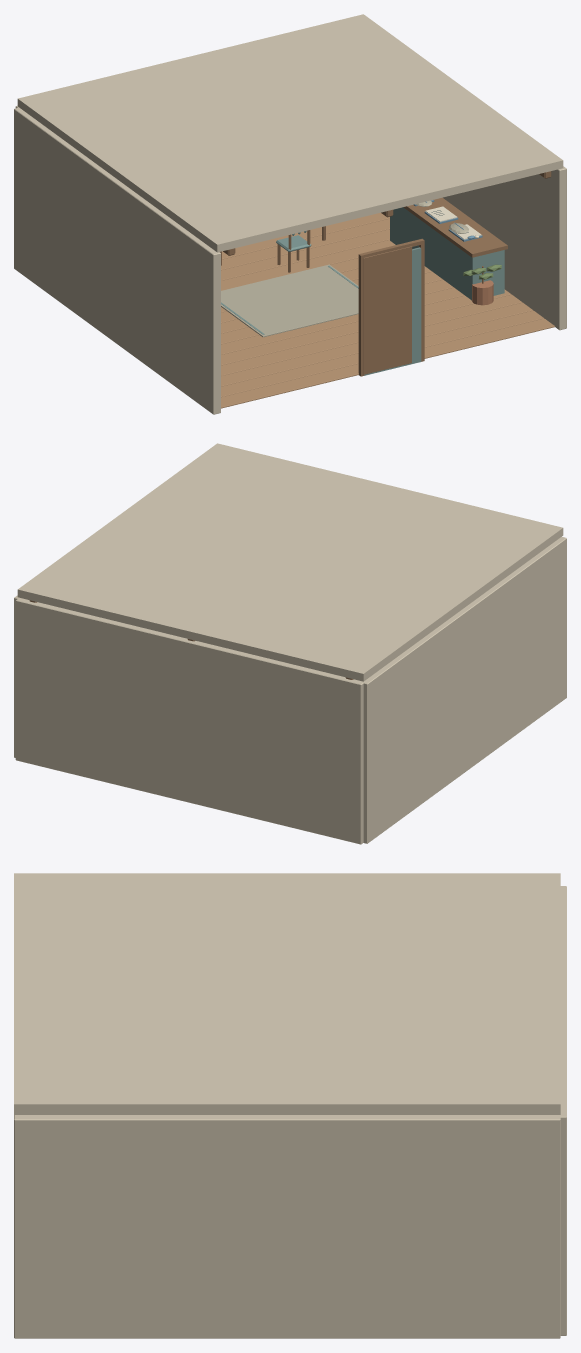
The picture shows the model from 3 angles, top to bottom: view 1: azimuth 30°, elevation 25°; view 2: azimuth 150°, elevation 25°; view 3: azimuth 270°, elevation 25°; orthographic projection. The views are drawn at different scales.
Visible parts, largest first — view 1: Ceiling.001, Left_wall, Right_wall, Rug, Door_frame, V2_sideboard_A1, Floorboard.017, Floorboard.016, Floorboard.015, Floorboard.014, Floorboard.013, V2_counter_A1 (+8 smaller); view 2: Ceiling.001, Back_wall, Left_wall; view 3: Ceiling.001, Right_wall, Back_wall.
Boxes of the visible parts, x1=… form: Ceiling.001: x1=17, y1=14, x2=563, y2=252; Left_wall: x1=14, y1=107, x2=220, y2=414; Right_wall: x1=443, y1=166, x2=566, y2=330; Rug: x1=221, y1=264, x2=358, y2=337; Door_frame: x1=363, y1=246, x2=412, y2=374; V2_sideboard_A1: x1=390, y1=207, x2=504, y2=300; Floorboard.017: x1=221, y1=318, x2=554, y2=408; Floorboard.016: x1=221, y1=310, x2=543, y2=397; Floorboard.015: x1=221, y1=302, x2=532, y2=386; Floorboard.014: x1=221, y1=294, x2=522, y2=375; Floorboard.013: x1=221, y1=289, x2=511, y2=365; V2_counter_A1: x1=403, y1=197, x2=507, y2=257; Ceiling.001: x1=17, y1=443, x2=563, y2=681; Back_wall: x1=15, y1=597, x2=364, y2=844; Left_wall: x1=361, y1=537, x2=566, y2=843; Ceiling.001: x1=14, y1=873, x2=560, y2=1114; Right_wall: x1=14, y1=1115, x2=560, y2=1338; Back_wall: x1=555, y1=886, x2=566, y2=1335.
Size of what is drawn, in the model's own units: 7.16 by 3.28 by 7.08.
